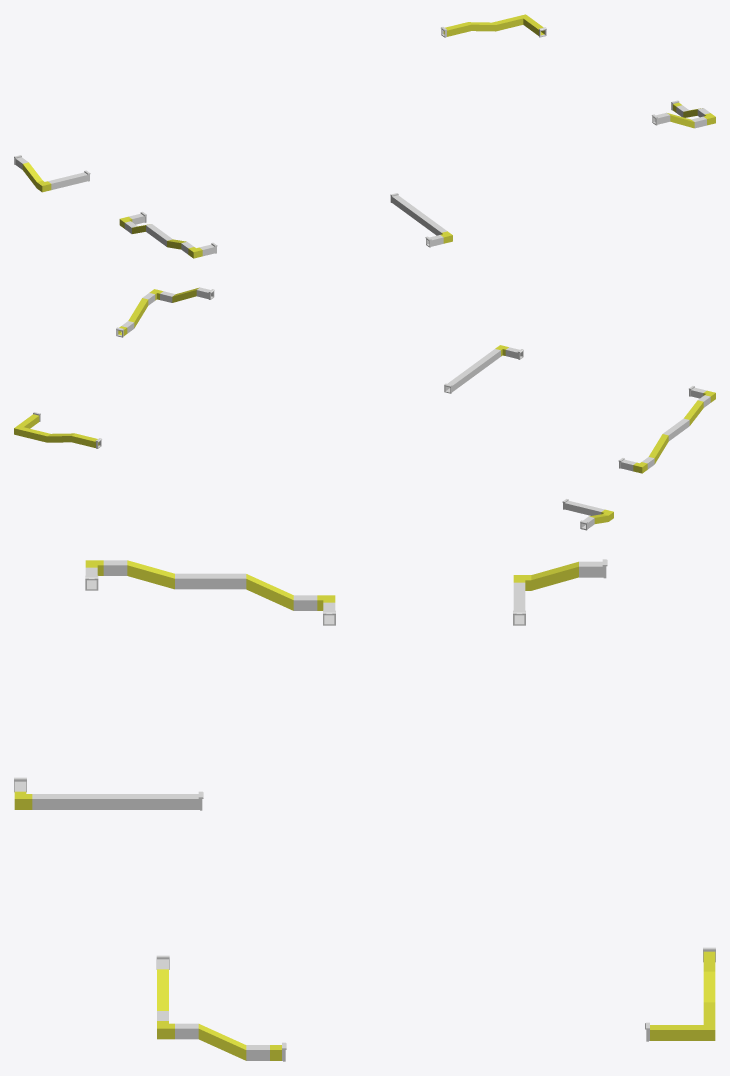
The model's file is Arena_001_Vents.fbx.
The picture shows the model from 3 angles, top to bottom: view 1: azimuth 30°, elevation 25°; view 2: azimuth 150°, elevation 25°; view 3: azimuth 270°, elevation 25°; orthographic projection. The views are drawn at different scales.
Visible parts, largest first — view 1: Arena_001_Vents; view 2: Arena_001_Vents; view 3: Arena_001_Vents.
Boxes of the visible parts, left/top/right/bottom form: Arena_001_Vents: left=14, top=14, right=715, bottom=258; Arena_001_Vents: left=14, top=287, right=715, bottom=530; Arena_001_Vents: left=14, top=559, right=715, bottom=1061.
Size of the model in its own units: 9309 by 524 by 5909.
